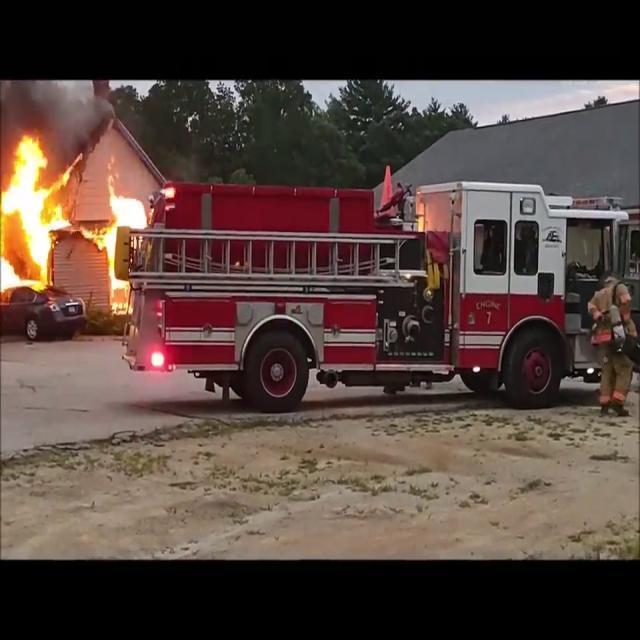Fire: (0, 132, 75, 300), (100, 180, 148, 315)
Smoke: (0, 78, 96, 150)
